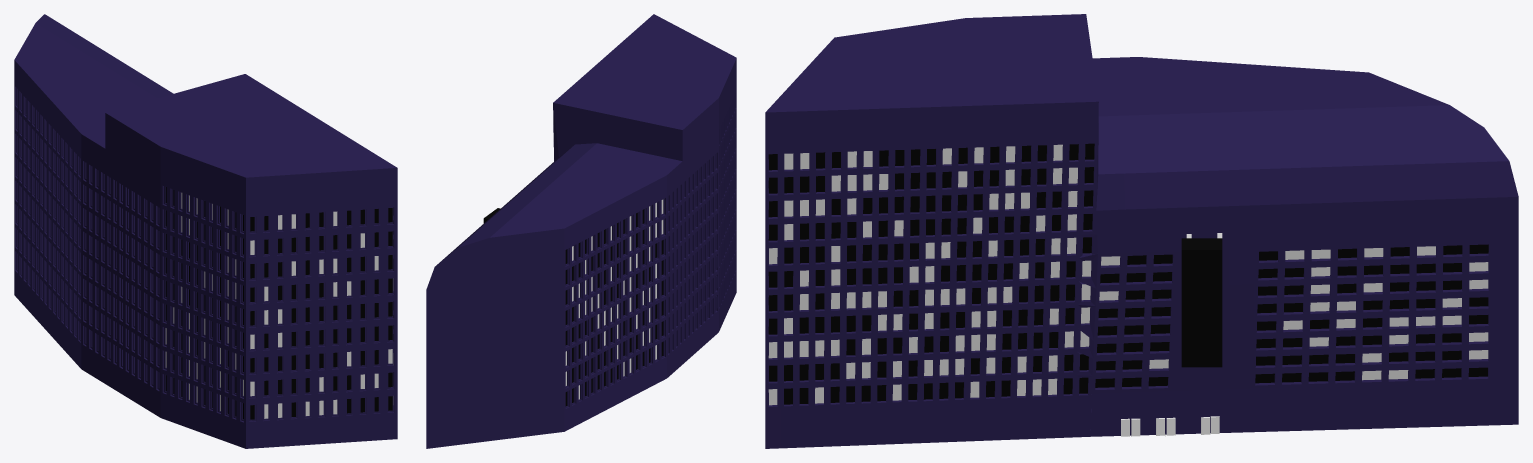
Rendered from RoyalEmpireTheatre.fbx.
3 renders of one model, left to right at view 1: azimuth 30°, elevation 25°; view 2: azimuth 150°, elevation 25°; view 3: azimuth 270°, elevation 25°, orthographic. The views are drawn at different scales.
Parts seen in each view (by area): view 1: SaintMary'sTheatre; view 2: SaintMary'sTheatre; view 3: SaintMary'sTheatre, TheatreSign.
Boxes of the visible parts, x1=… form: SaintMary'sTheatre: x1=14, y1=14, x2=397, y2=448; SaintMary'sTheatre: x1=426, y1=14, x2=736, y2=448; SaintMary'sTheatre: x1=765, y1=14, x2=1518, y2=448; TheatreSign: x1=1181, y1=238, x2=1222, y2=367.
Size of the model in its own units: 2894 by 4207 by 8536.
